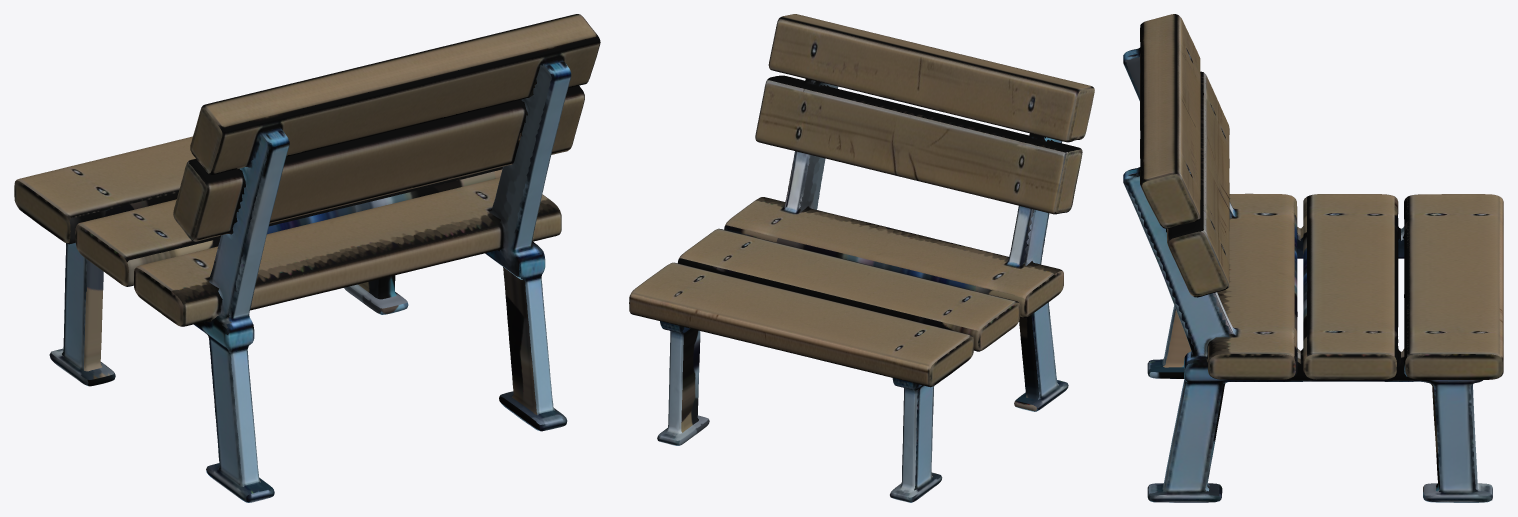
File: street-bench.glb
3 views of the same model, side by side, from view 1: azimuth 30°, elevation 25°; view 2: azimuth 150°, elevation 25°; view 3: azimuth 270°, elevation 25° (orthographic). The views are drawn at different scales.
Visible parts, largest first — view 1: tmp8b2s5oj2.ply; view 2: tmp8b2s5oj2.ply; view 3: tmp8b2s5oj2.ply.
Part boxes in pixels (x1,y1,x2,y2): tmp8b2s5oj2.ply: [14, 14, 600, 502]; tmp8b2s5oj2.ply: [629, 14, 1094, 502]; tmp8b2s5oj2.ply: [1123, 14, 1503, 502].
Bounding box in the file's own units: 1 × 1 × 1.
1 material, 1 textured.
